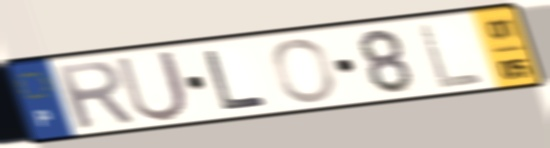8: (356, 27, 416, 96)
L: (415, 20, 488, 92), (199, 47, 272, 113)
O: (269, 36, 339, 105)
R: (50, 58, 139, 132)
U: (112, 47, 193, 124)
